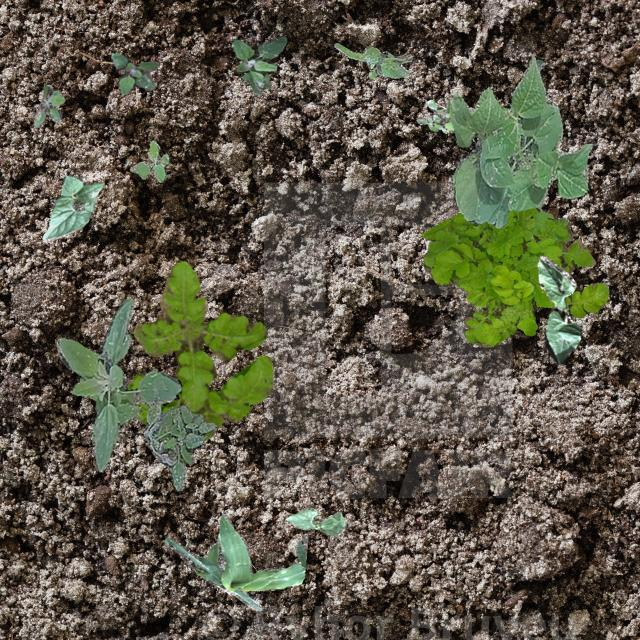crop: (448, 56, 590, 228), (165, 512, 306, 610), (536, 255, 580, 362), (42, 174, 102, 242), (508, 59, 542, 110), (284, 506, 344, 534)
weed: (126, 258, 272, 441), (422, 206, 608, 346), (56, 296, 180, 470), (142, 398, 216, 490), (230, 36, 286, 94), (334, 42, 412, 78), (110, 52, 158, 94), (128, 140, 168, 180), (32, 82, 64, 126), (416, 99, 452, 132)
